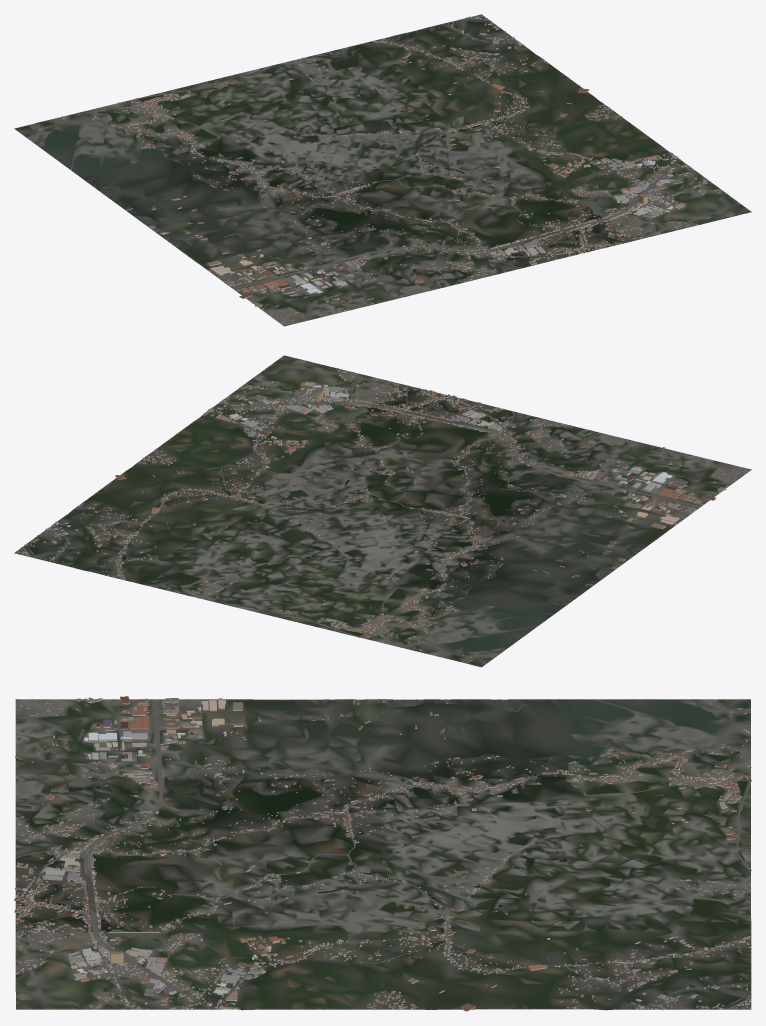
The picture shows the model from 3 angles, top to bottom: view 1: azimuth 30°, elevation 25°; view 2: azimuth 150°, elevation 25°; view 3: azimuth 270°, elevation 25°; orthographic projection. The views are drawn at different scales.
Parts seen in each view (by area): view 1: ground, buildings, roads, water; view 2: ground, buildings, roads, water; view 3: ground, buildings, roads, water.
Boxes of the visible parts, x1,y1,x2,y2 form: ground: [14, 14, 751, 326]; buildings: [28, 14, 721, 323]; roads: [129, 18, 707, 288]; water: [102, 20, 703, 307]; ground: [14, 355, 751, 667]; buildings: [15, 368, 746, 661]; roads: [22, 369, 700, 637]; water: [27, 367, 719, 626]; ground: [15, 699, 751, 1010]; buildings: [14, 696, 751, 1011]; roads: [15, 699, 751, 1009]; water: [16, 699, 750, 1005].
Bounding box in the file's own units: 5681 × 84.95 × 5627.
